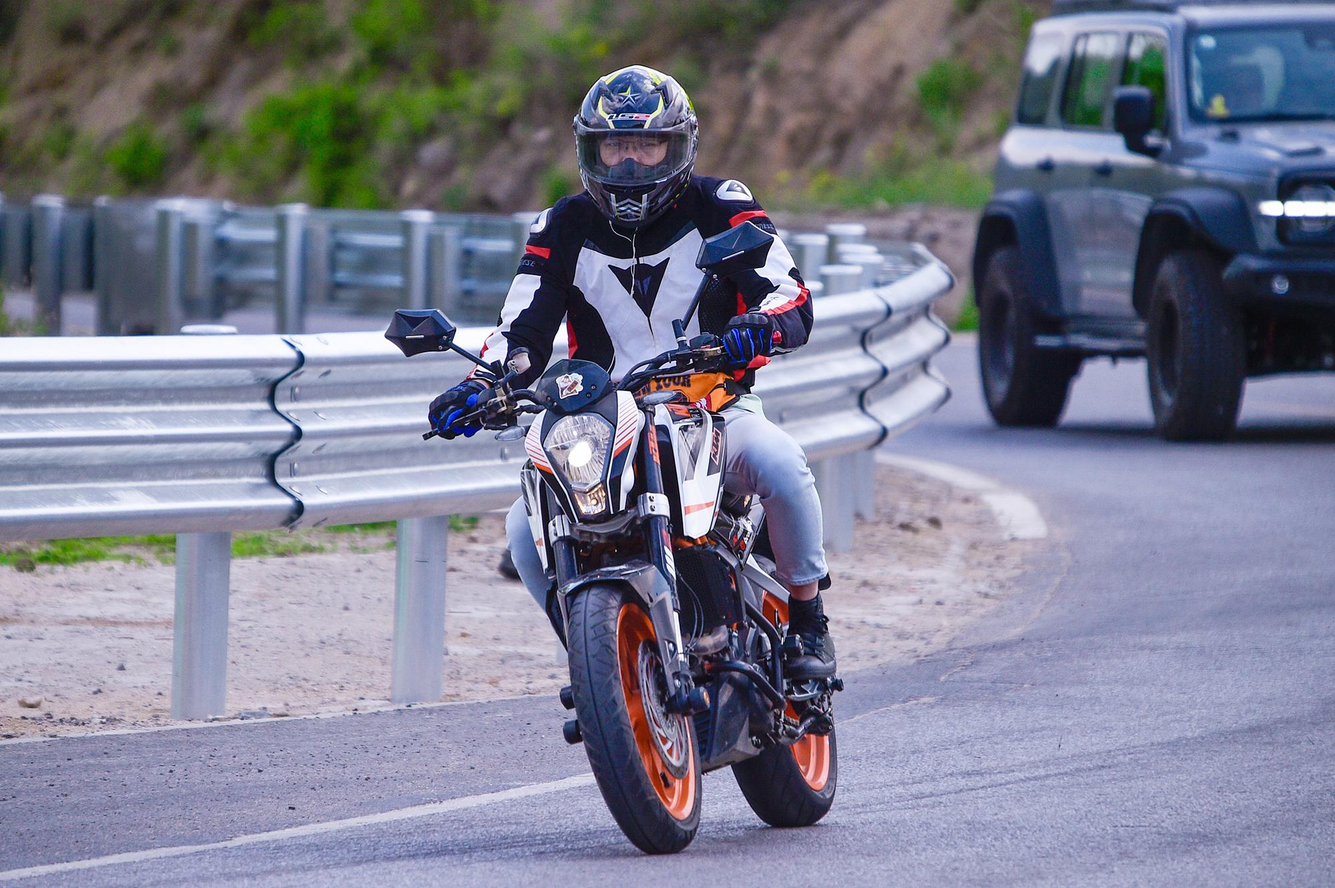helmet: (570, 63, 701, 230)
